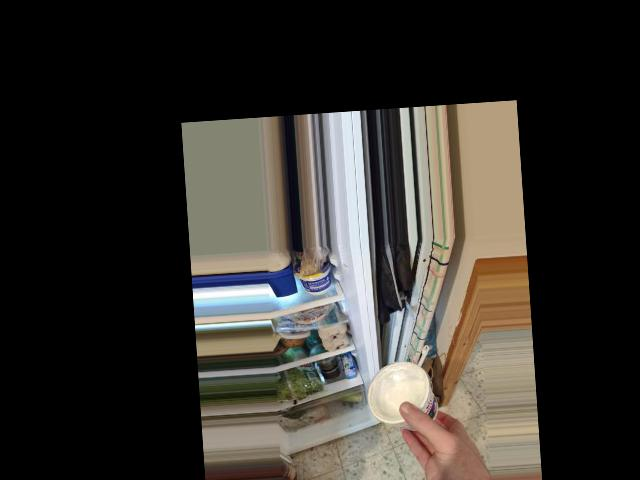cotage: (364, 355, 449, 439)
